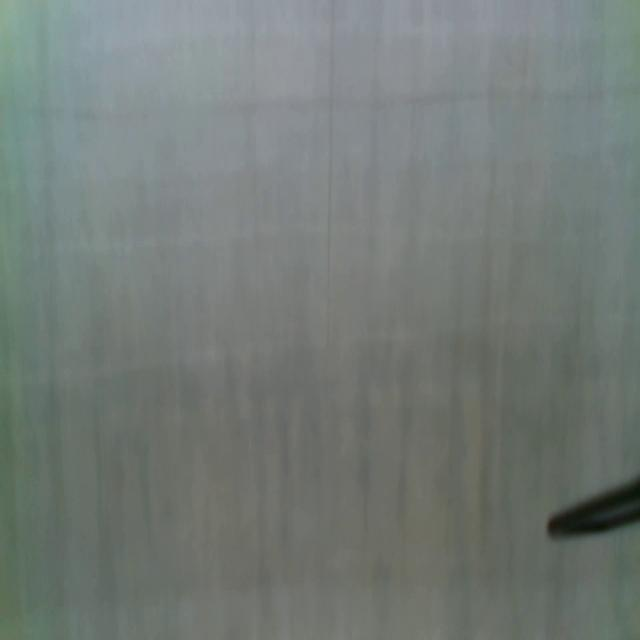color bleeding: (2, 70, 640, 128)
crease: (324, 2, 336, 351)
